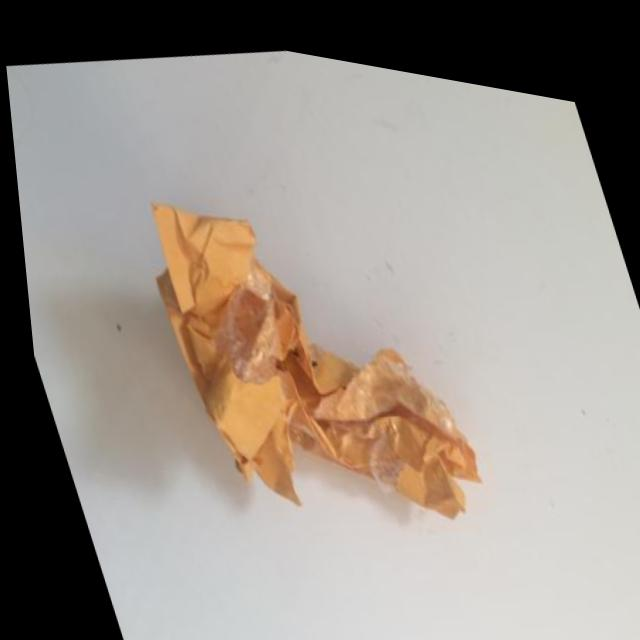trash: (63, 77, 553, 611)
